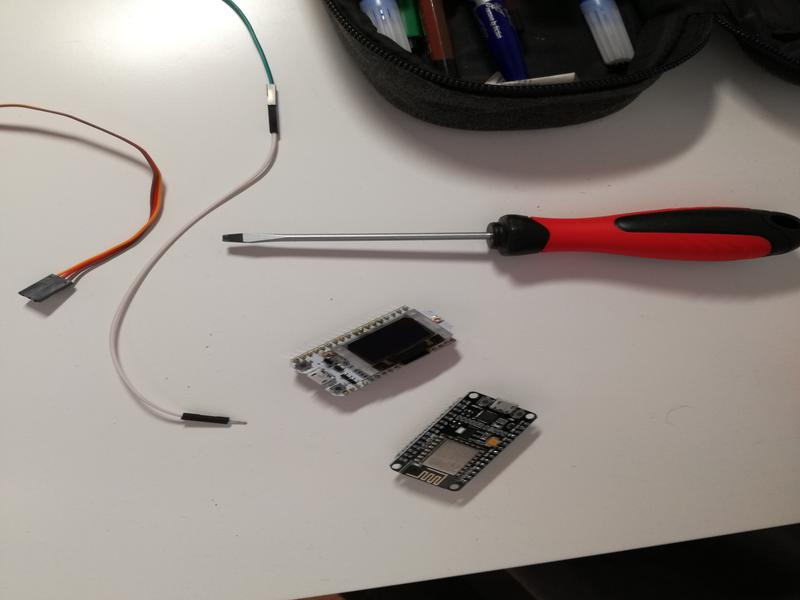ESP8266: (384, 390, 541, 493)
Heltec_ESP32_Lora: (287, 304, 459, 399)
